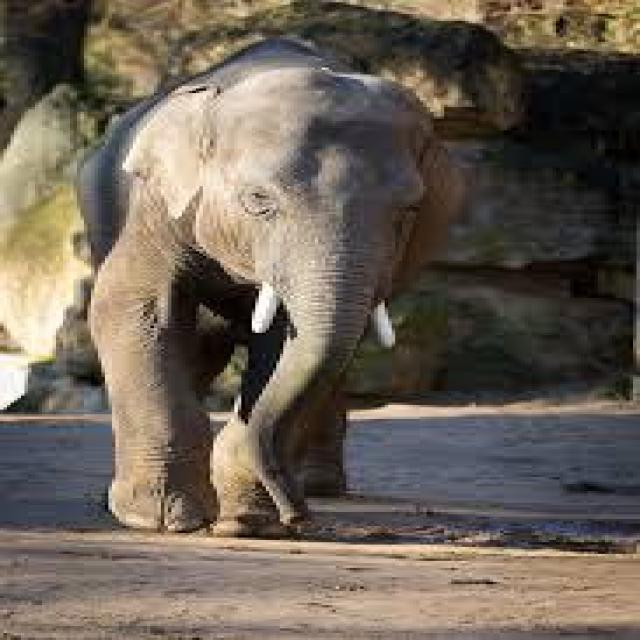Elephant: (70, 35, 423, 531)
